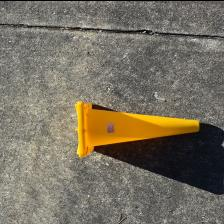cone: (74, 100, 200, 156)
